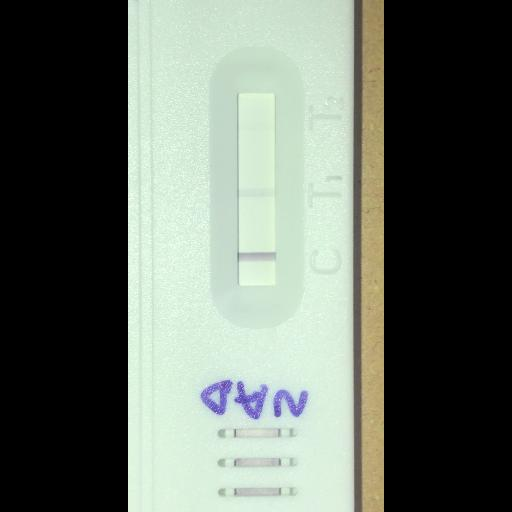Pos: (139, 0, 355, 511)
